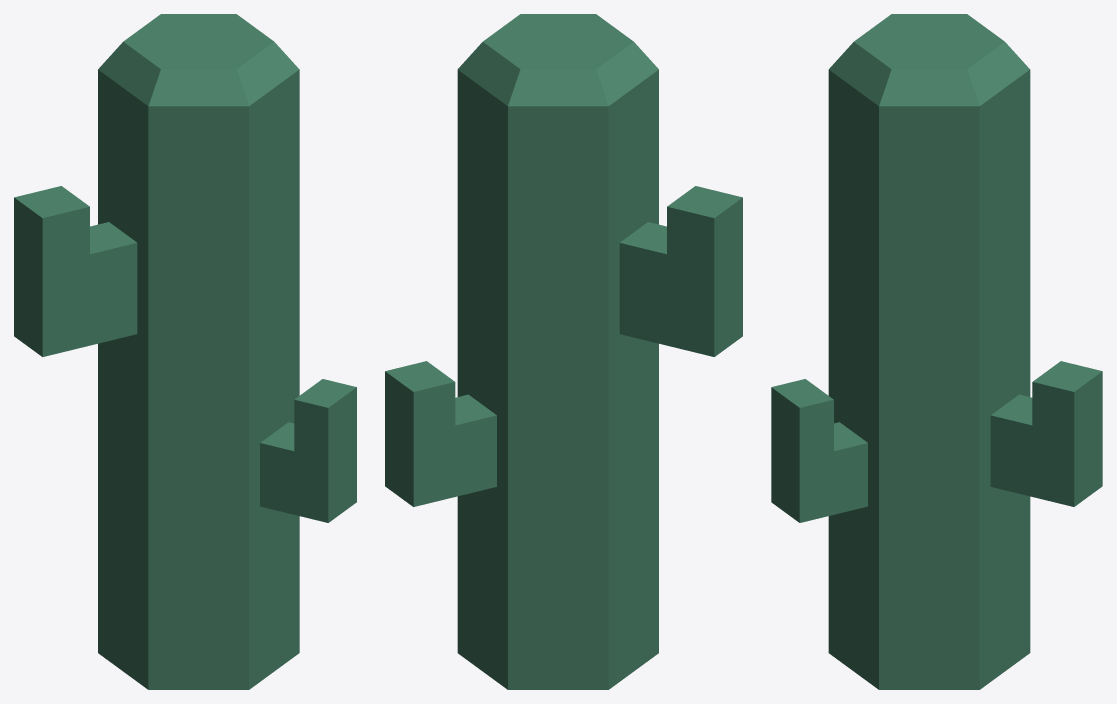
File: naturePack_056.obj
The picture shows the model from 3 angles, left to right: view 1: azimuth 30°, elevation 25°; view 2: azimuth 150°, elevation 25°; view 3: azimuth 270°, elevation 25°; orthographic projection.
Visible parts, largest first — view 1: Mesh1 Group1 Model; view 2: Mesh1 Group1 Model; view 3: Mesh1 Group1 Model.
Part boxes in pixels (x1,y1,x2,y2): Mesh1 Group1 Model: (14, 14, 356, 689); Mesh1 Group1 Model: (385, 14, 742, 689); Mesh1 Group1 Model: (771, 14, 1102, 689).
Size of the model in its own units: 0.7151 by 1.54 by 0.7564.
